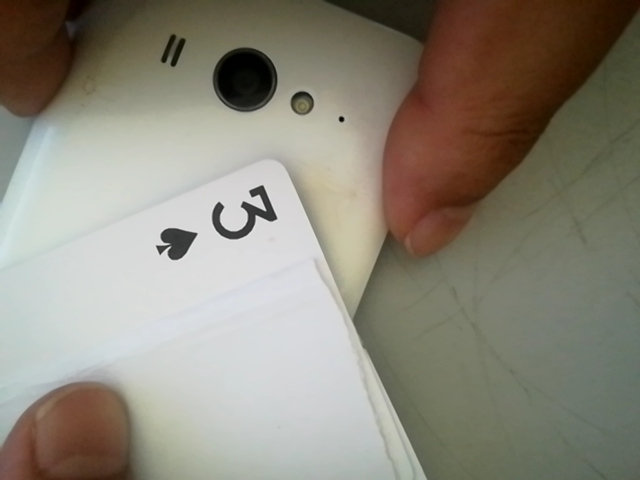ht 3: (135, 175, 297, 262)
